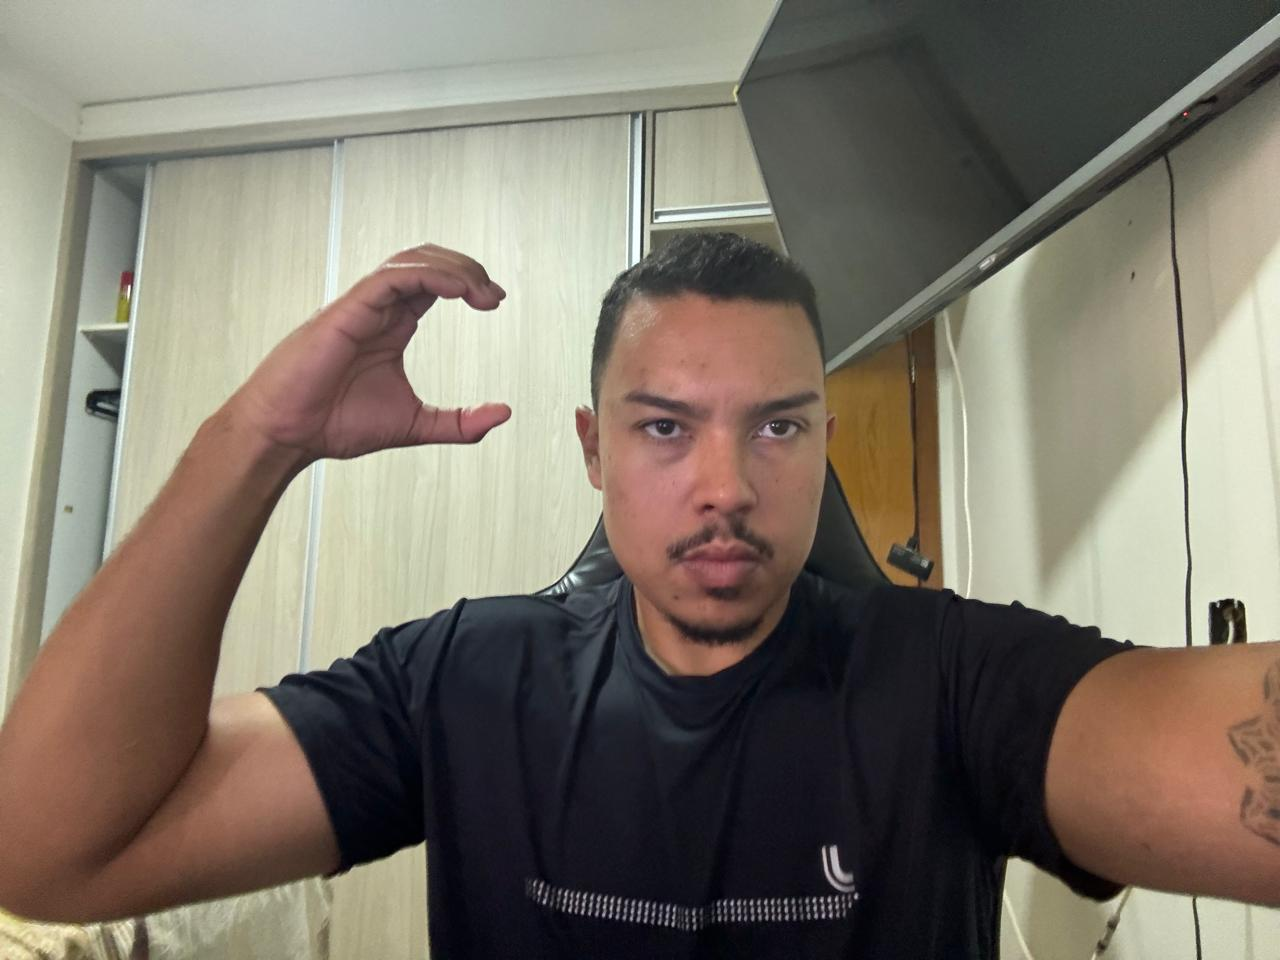c: (239, 235, 521, 463)
